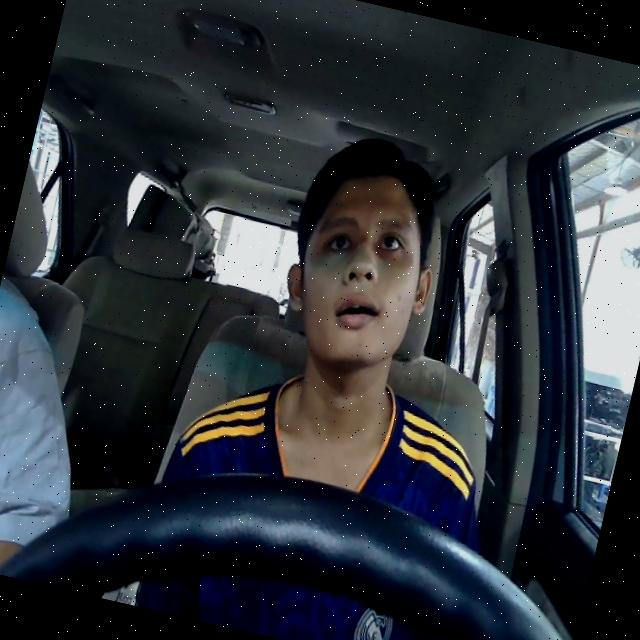yarning: (266, 159, 452, 382)
